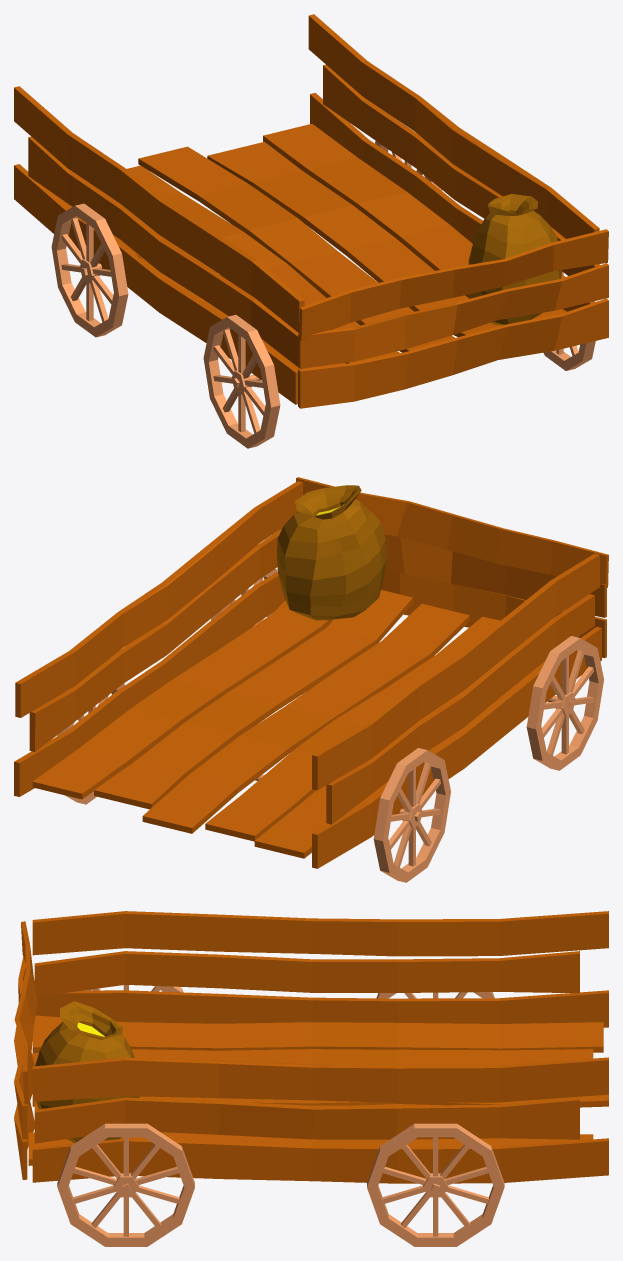
Rendered from woz.fbx.
The picture shows the model from 3 angles, top to bottom: view 1: azimuth 30°, elevation 25°; view 2: azimuth 150°, elevation 25°; view 3: azimuth 270°, elevation 25°; orthographic projection.
Visible parts, largest first — view 1: Wuz; view 2: Wuz; view 3: Wuz.
Boxes of the visible parts, bbox=[...] form: Wuz: bbox=[14, 14, 608, 448]; Wuz: bbox=[14, 477, 608, 882]; Wuz: bbox=[14, 911, 608, 1246].
Bounding box in the file's own units: 303 × 170 × 462.
